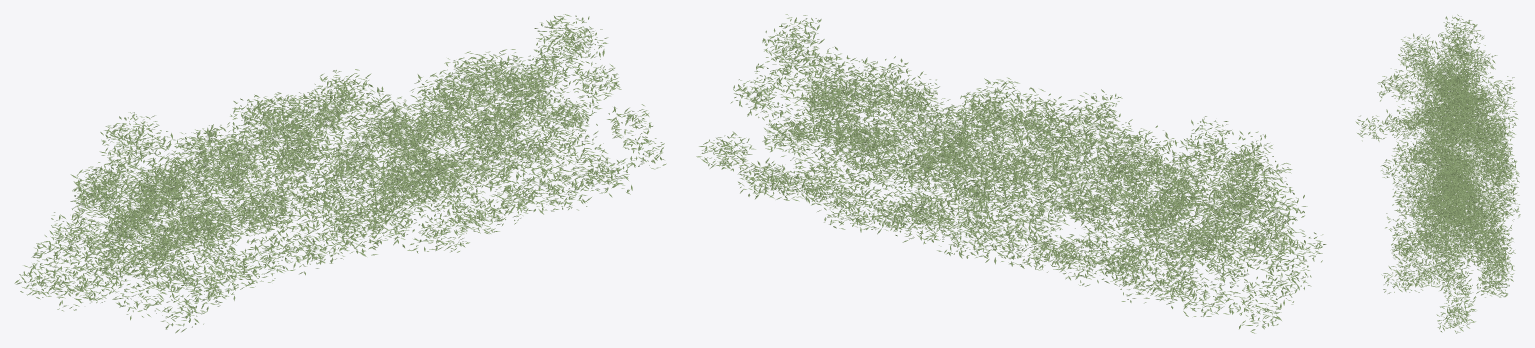
Rendered from xiyuan-vegetation-25-near.glb.
The picture shows the model from 3 angles, left to right: view 1: azimuth 30°, elevation 25°; view 2: azimuth 150°, elevation 25°; view 3: azimuth 270°, elevation 25°; orthographic projection. The views are drawn at different scales.
Parts seen in each view (by area): view 1: vegetation cedar leaves; view 2: vegetation cedar leaves; view 3: vegetation cedar leaves.
Part boxes in pixels (x1,y1,x2,y2): vegetation cedar leaves: [14, 14, 666, 333]; vegetation cedar leaves: [696, 14, 1326, 333]; vegetation cedar leaves: [1355, 14, 1520, 333].
Size of the model in its own units: 38.78 by 11.12 by 11.88.
